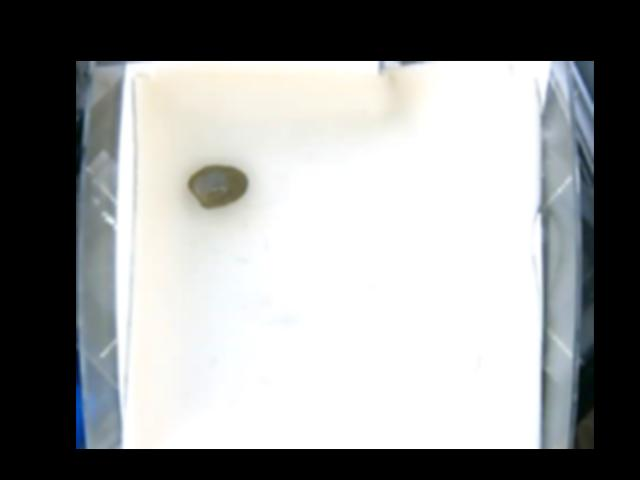Pebble: (186, 163, 247, 208)
